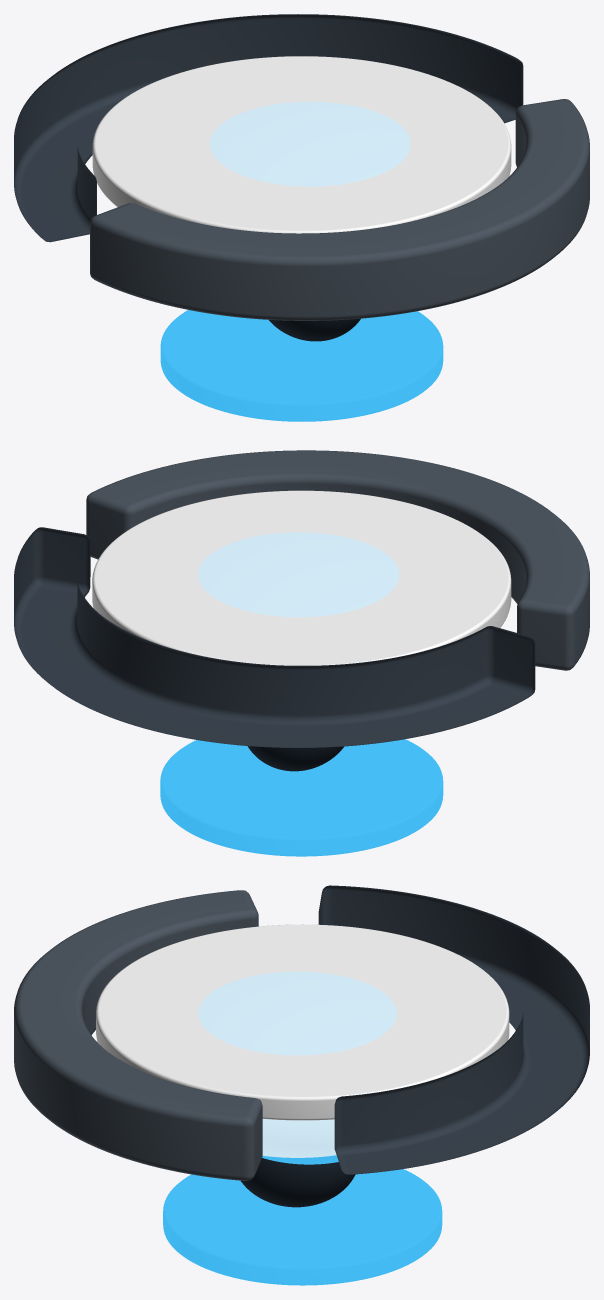
Rendered from ev_core_r11_lens.glb.
3 views of the same model, one above another, from view 1: azimuth 30°, elevation 25°; view 2: azimuth 150°, elevation 25°; view 3: azimuth 270°, elevation 25° (orthographic).
Parts seen in each view (by area): view 1: LensHousingBottom, LensGlassFront, LensHousingTop, RearGlowCavity, PlasmaField, DarkCognitionNucleus; view 2: LensHousingTop, LensGlassFront, LensHousingBottom, RearGlowCavity, PlasmaField, DarkCognitionNucleus; view 3: LensGlassFront, LensHousingTop, LensHousingBottom, RearGlowCavity, PlasmaField, DarkCognitionNucleus.
Boxes of the visible parts, left/top/right/bottom form: LensHousingBottom: left=90, top=99, right=589, bottom=320; LensGlassFront: left=92, top=56, right=511, bottom=233; LensHousingTop: left=14, top=14, right=523, bottom=242; RearGlowCavity: left=160, top=310, right=443, bottom=421; PlasmaField: left=209, top=101, right=410, bottom=186; DarkCognitionNucleus: left=269, top=318, right=360, bottom=341; LensHousingTop: left=14, top=527, right=535, bottom=747; LensGlassFront: left=92, top=490, right=511, bottom=665; LensHousingBottom: left=86, top=450, right=589, bottom=670; RearGlowCavity: left=160, top=739, right=443, bottom=856; PlasmaField: left=198, top=532, right=399, bottom=617; DarkCognitionNucleus: left=247, top=746, right=344, bottom=771; LensGlassFront: left=96, top=924, right=509, bottom=1120; LensHousingTop: left=318, top=885, right=589, bottom=1174; LensHousingBottom: left=14, top=890, right=262, bottom=1180; RearGlowCavity: left=163, top=1169, right=442, bottom=1285; PlasmaField: left=198, top=971, right=396, bottom=1157; DarkCognitionNucleus: left=241, top=1158, right=355, bottom=1207.
Bounding box in the file's own units: 4.32 × 1.96 × 4.46.
